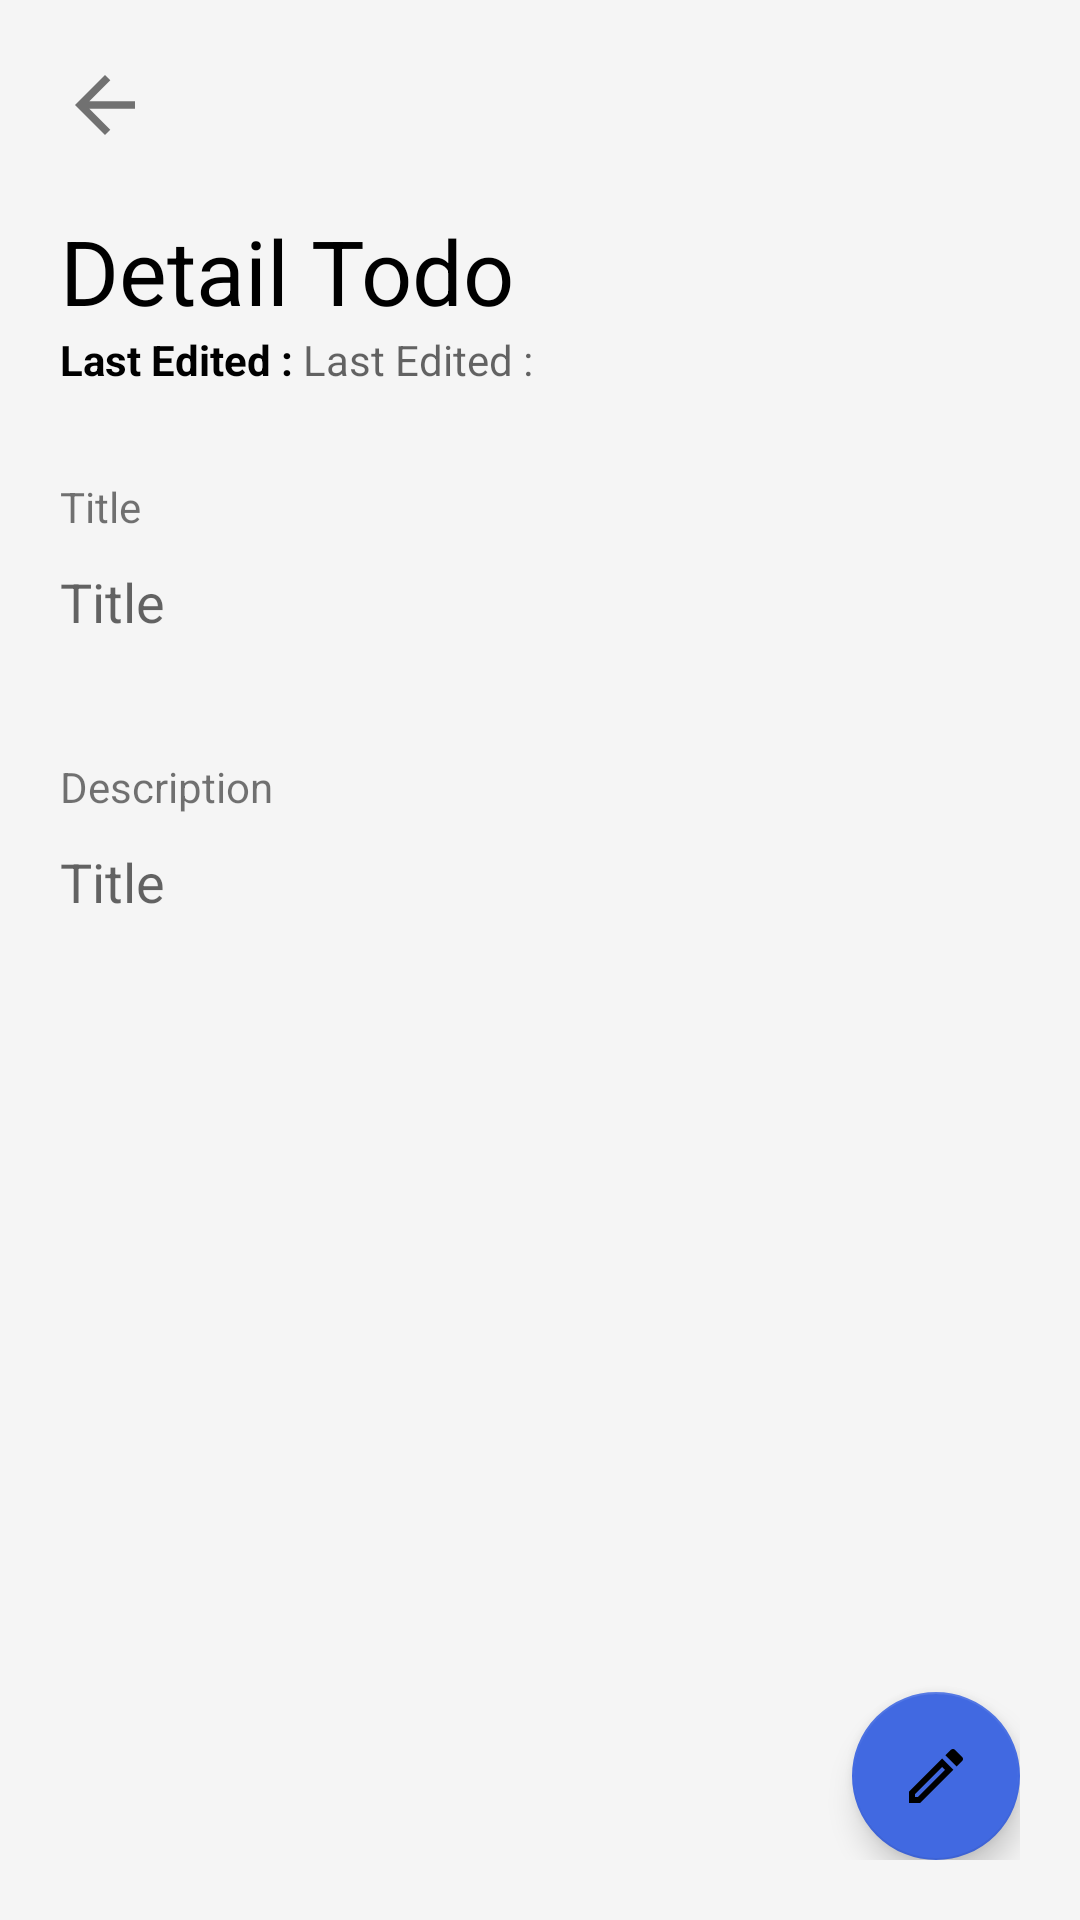

Point at icon controls on the screen. Image size 1080×1920, points as [x,y].
arrow back: [105,105]
create: [936,1776]
